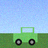vehicle: (13, 27, 37, 45)
